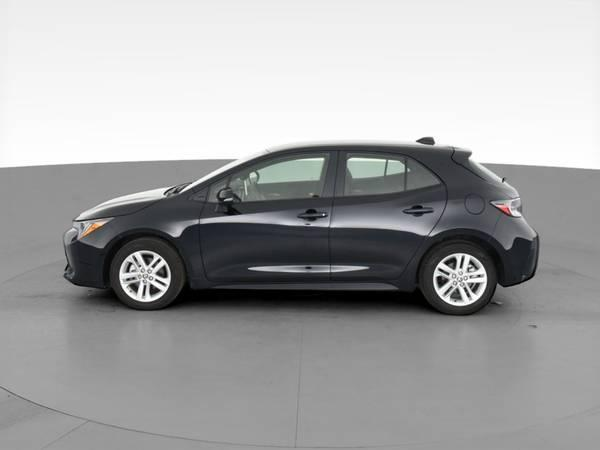Front_Bumper: (62, 223, 119, 291)
Front_Fender: (109, 188, 210, 290)
Front_Left_Door: (199, 198, 335, 291)
Front_Left_Window: (208, 152, 340, 203)
Hood: (80, 185, 175, 220)
Left_Headlight: (71, 216, 111, 240)
Left_Taillight: (490, 196, 528, 220)
Rear_Bumper: (490, 213, 542, 285)
Rear_Fender: (437, 179, 519, 241)
Rear_Left_Window: (335, 151, 444, 200)
Rear_Right_Door: (329, 183, 446, 289)
Roof: (177, 138, 486, 196)
Wheel: (423, 239, 497, 312), (108, 239, 182, 309)
